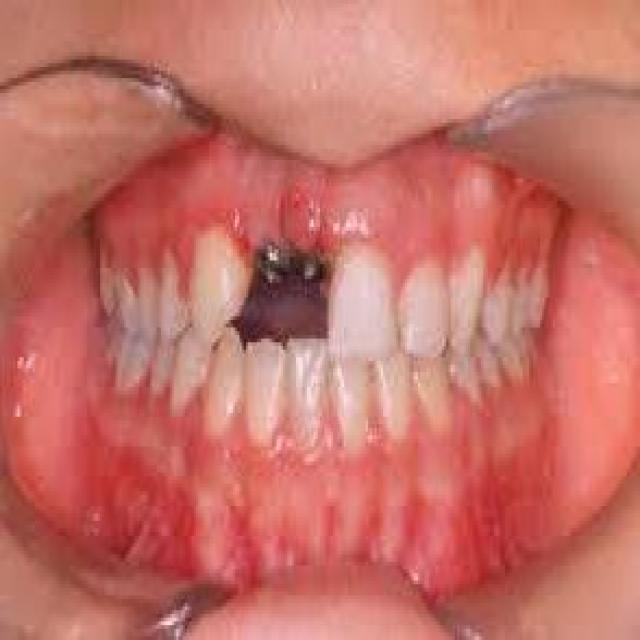caries: (258, 225, 334, 311)
